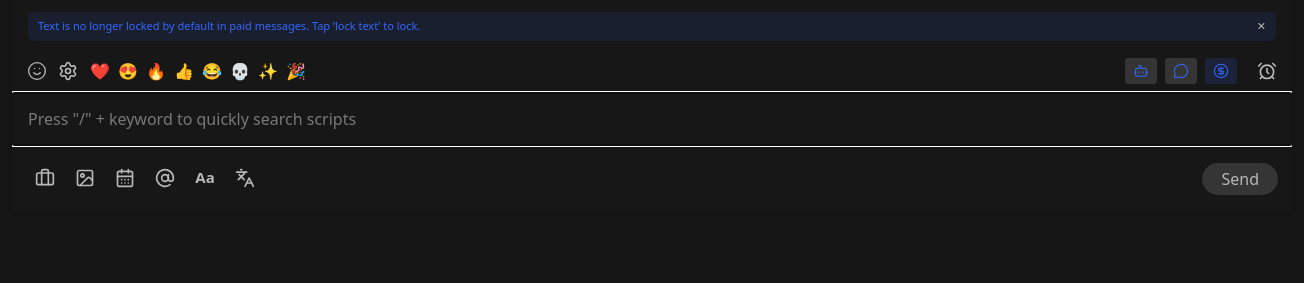
Test: Composer toolbar: "/" + keyword searches Scripts › Escape closes the list until the draft changes, and closes only the list
Type "/synth" into the text box with placeholder "Press \"/\" + keyword to quickly search scripts" at (652, 118), box x1=12 y1=92 x2=1292 y2=144
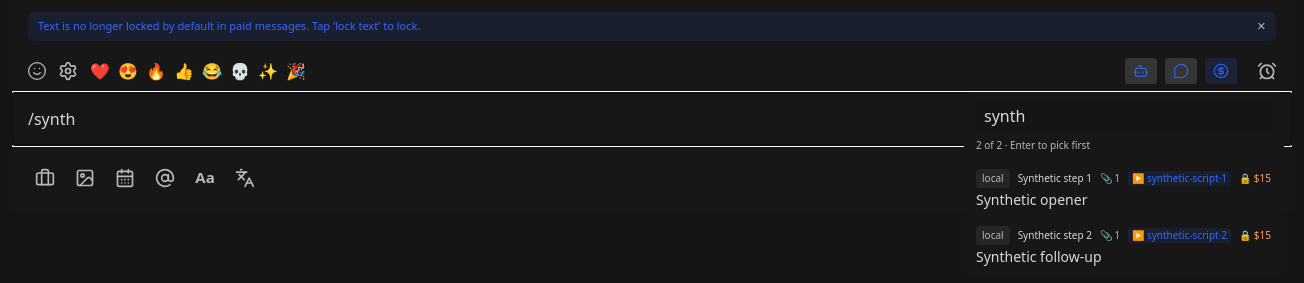
Now the button "Synthetic opener" is shown, box x1=964 y1=160 x2=1284 y2=218
Press Escape
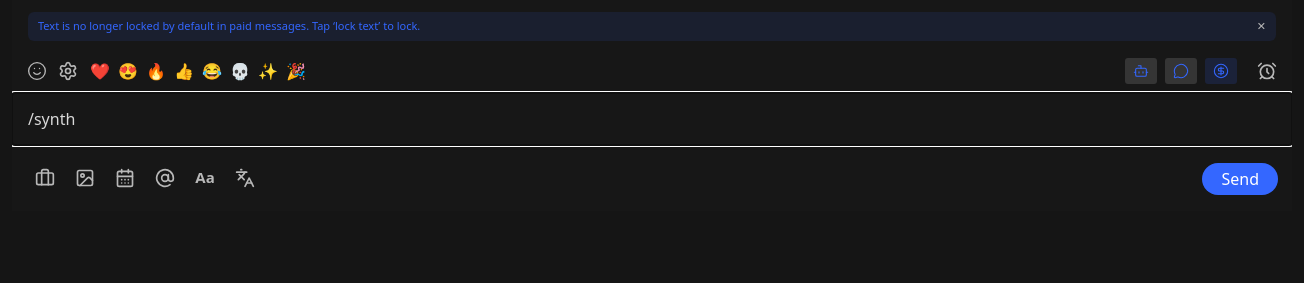
Now the button "Synthetic opener" is gone
Type "e" into the text box with placeholder "Press \"/\" + keyword to quickly search scripts" at (652, 118), box x1=12 y1=92 x2=1292 y2=144
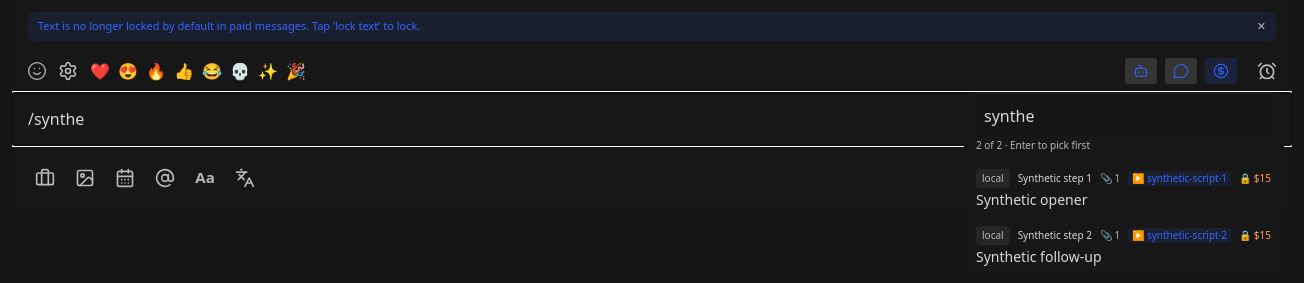
Now the button "Synthetic opener" is shown, box x1=964 y1=160 x2=1284 y2=218
